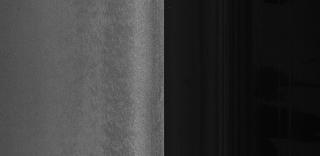silk spot: (77, 56, 127, 100)
